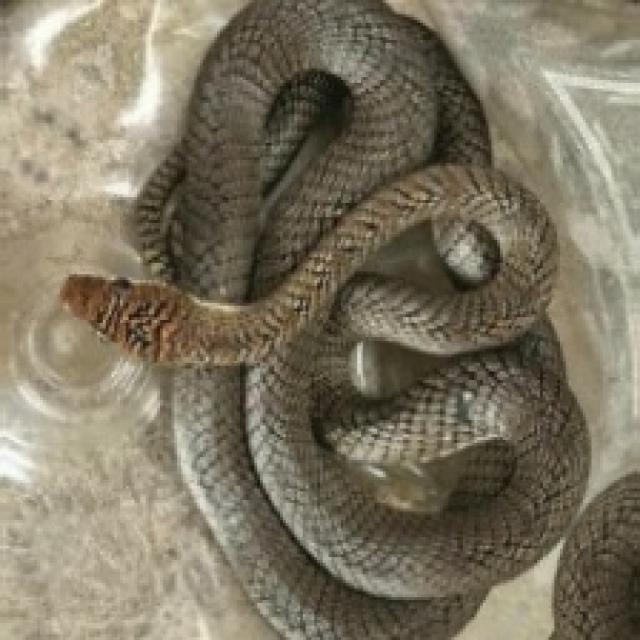paradise tree snake: (63, 0, 583, 637)
